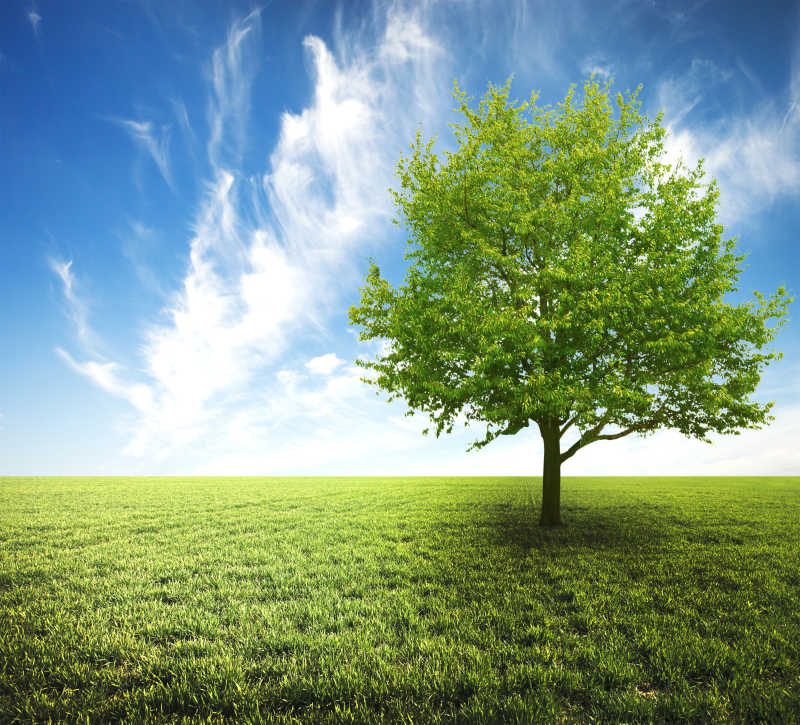tree: (345, 70, 795, 526)
